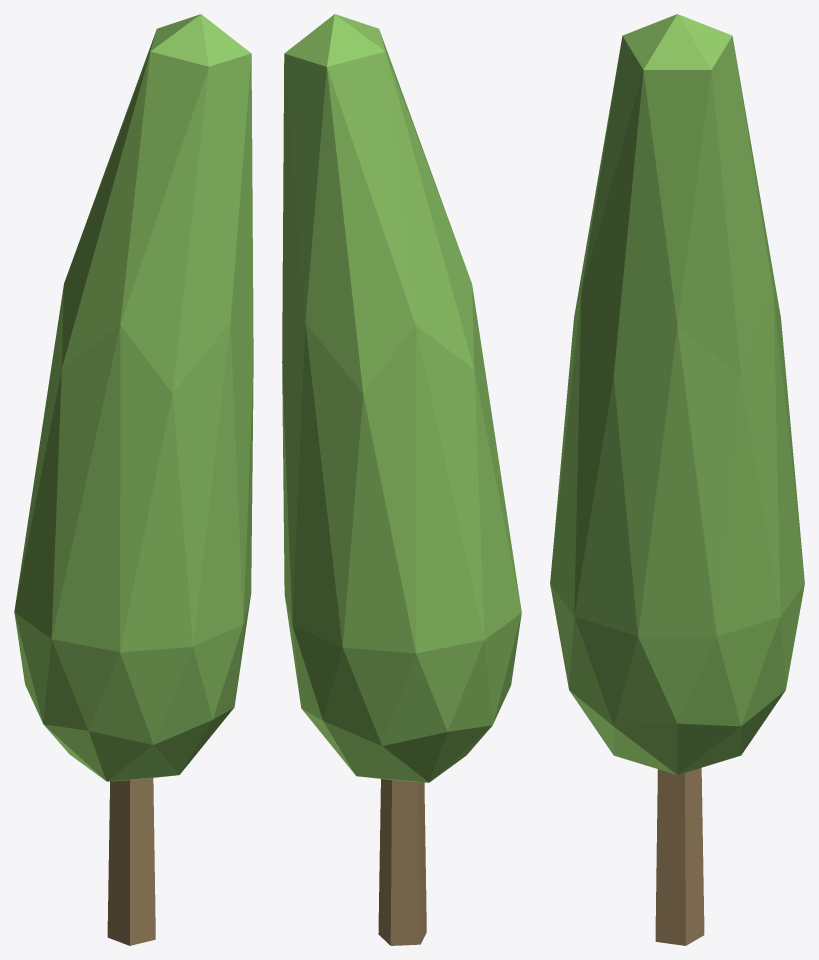
File: Thuja_Tree_m_09_LOD.fbx
3 renders of one model, left to right at view 1: azimuth 30°, elevation 25°; view 2: azimuth 150°, elevation 25°; view 3: azimuth 270°, elevation 25°, orthographic. The views are drawn at different scales.
Visible parts, largest first — view 1: Thuja_Tree_m_09_LOD0; view 2: Thuja_Tree_m_09_LOD0; view 3: Thuja_Tree_m_09_LOD0.
Boxes of the visible parts, x1,y1,x2,y2 form: Thuja_Tree_m_09_LOD0: (14,14,253,945); Thuja_Tree_m_09_LOD0: (282,14,521,945); Thuja_Tree_m_09_LOD0: (550,14,804,945).
Size of what is drawn, in the model's own units: 120 by 497 by 120.
